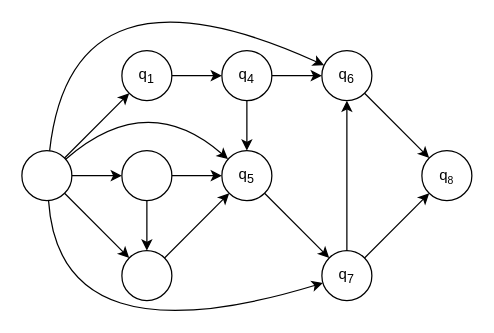
Some shapes in this 494 by 333 pixel diagram are drawn without their labels. The shapes that lost their labels are listed below. From the top down, each one's centre as x and y in pixels, then its label:
(x=46, y=175): q 0
(x=146, y=175): q 2
(x=146, y=275): q 3
